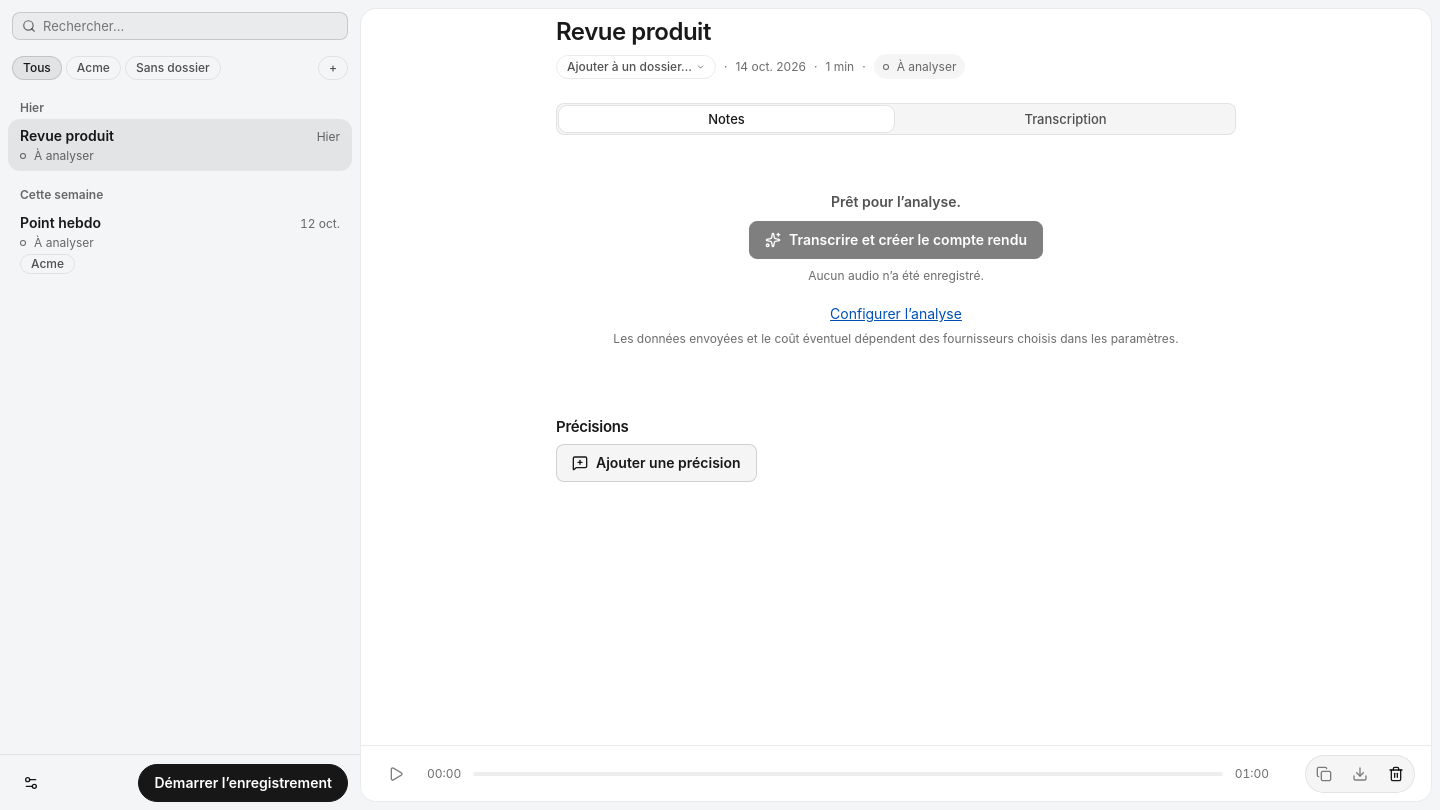
Scenario: The menu of a meeting row › asks for confirmation before deleting, and keeps the meeting when cancelled
Right-click the option "Point hebdo 12 oct. À analyser Acme" at (60, 222), box x1=8 y1=206 x2=352 y2=282
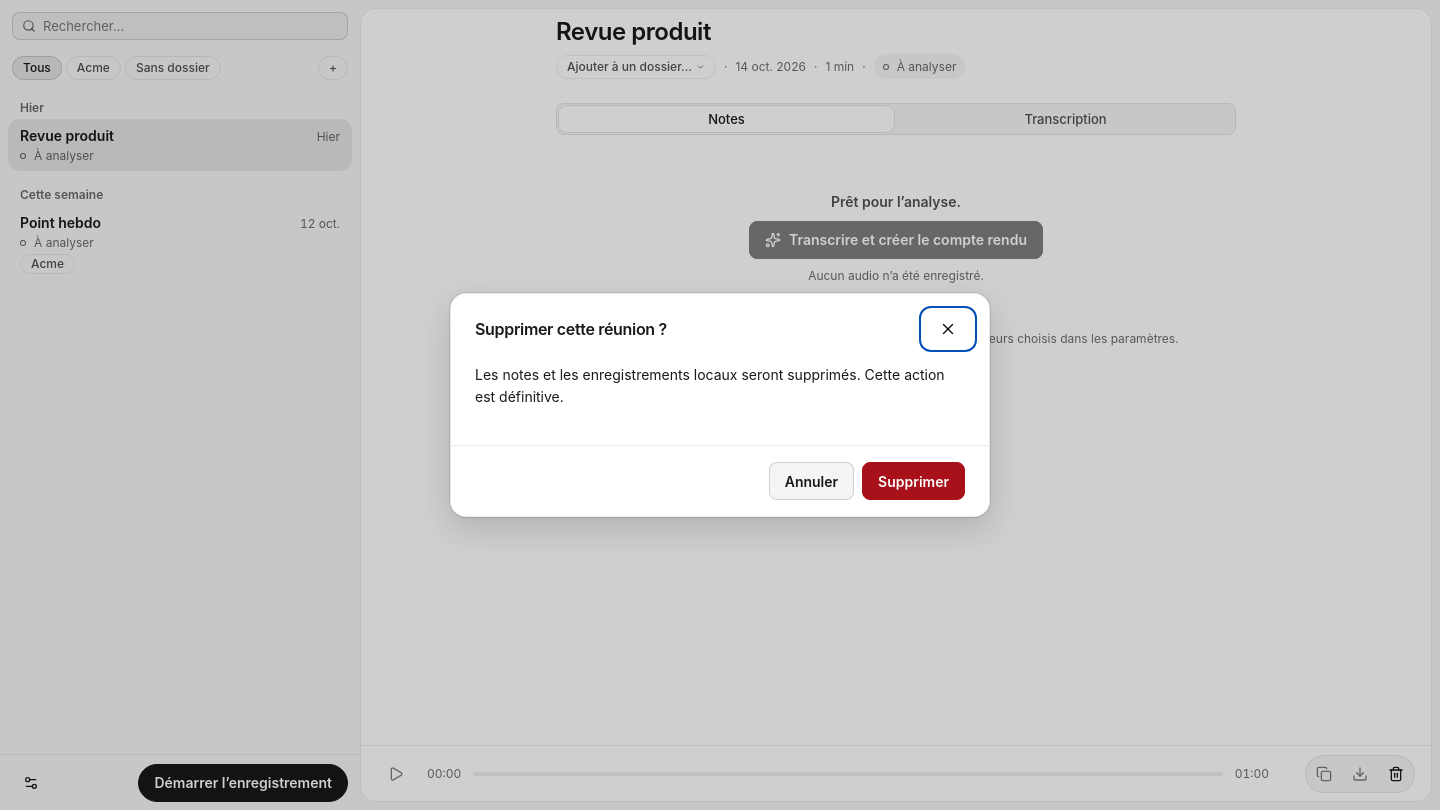
Click the button "Annuler" at (811, 481), box x1=769 y1=462 x2=854 y2=500
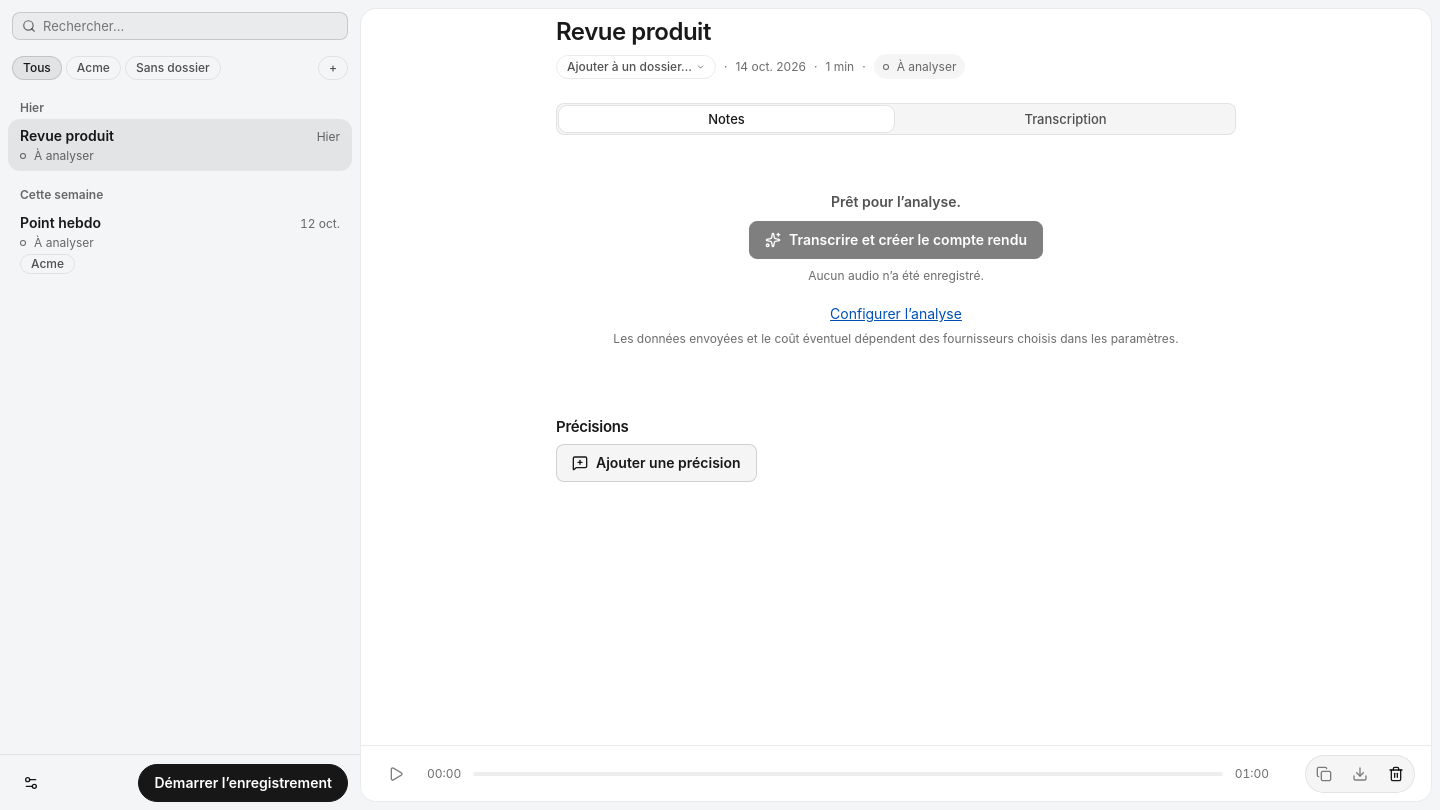
Expected: the option "Point hebdo 12 oct. À analyser Acme" is shown, x1=8 y1=206 x2=352 y2=282
Now the dialog is gone
